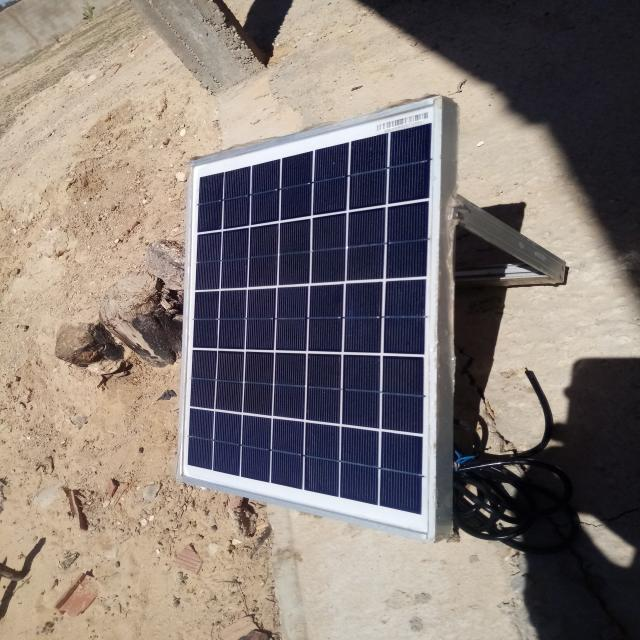no faulty: (181, 97, 445, 534)
